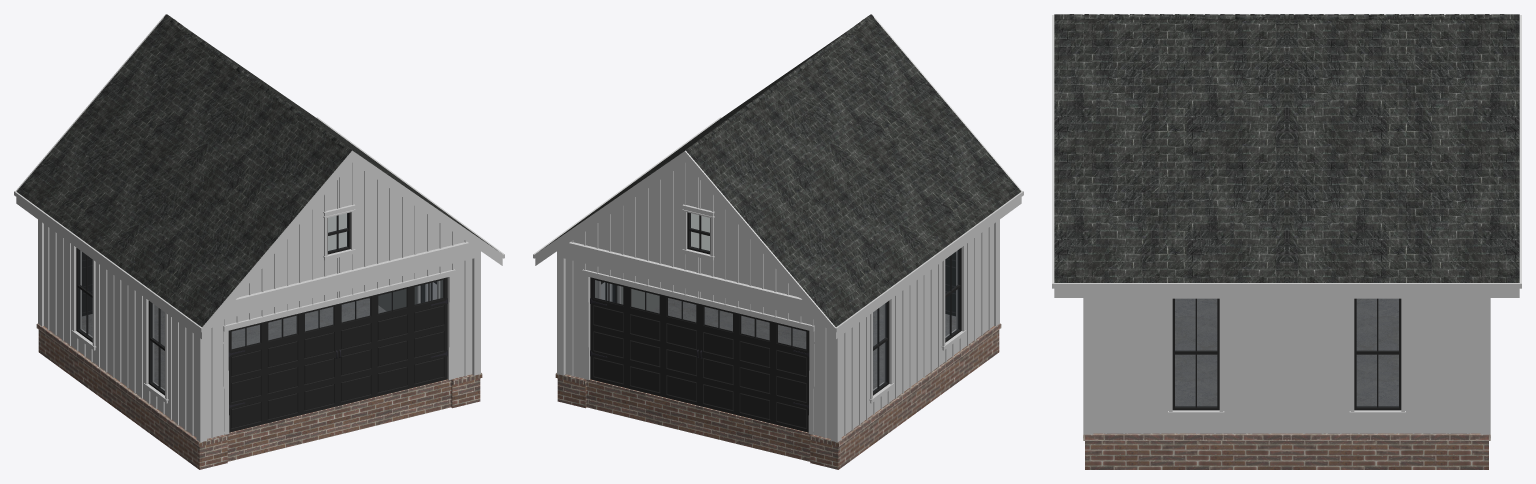
File: garage.glb
3 views of the same model, side by side, from view 1: azimuth 30°, elevation 25°; view 2: azimuth 150°, elevation 25°; view 3: azimuth 270°, elevation 25° (orthographic). The views are drawn at different scales.
Bounding box in the file's own units: 7.49 × 6.95 × 8.
Materials: 9 (5 with a texture image).
